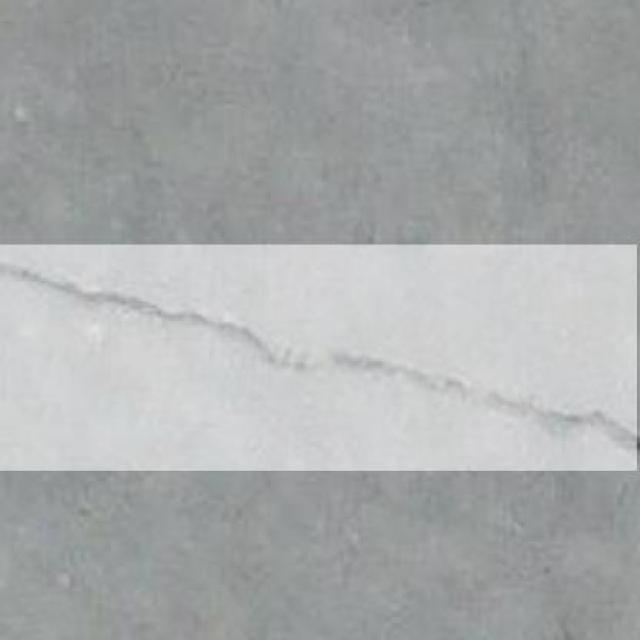Crack: (0, 251, 640, 471)
